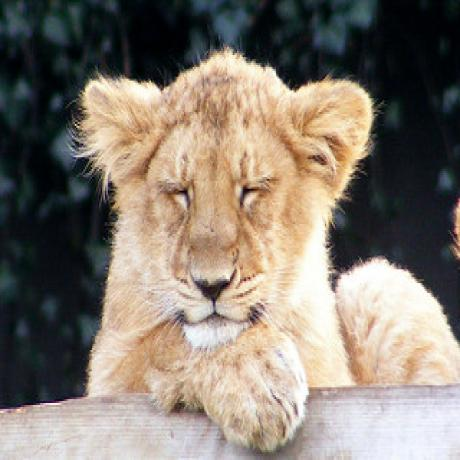Lion: (74, 49, 460, 447)
